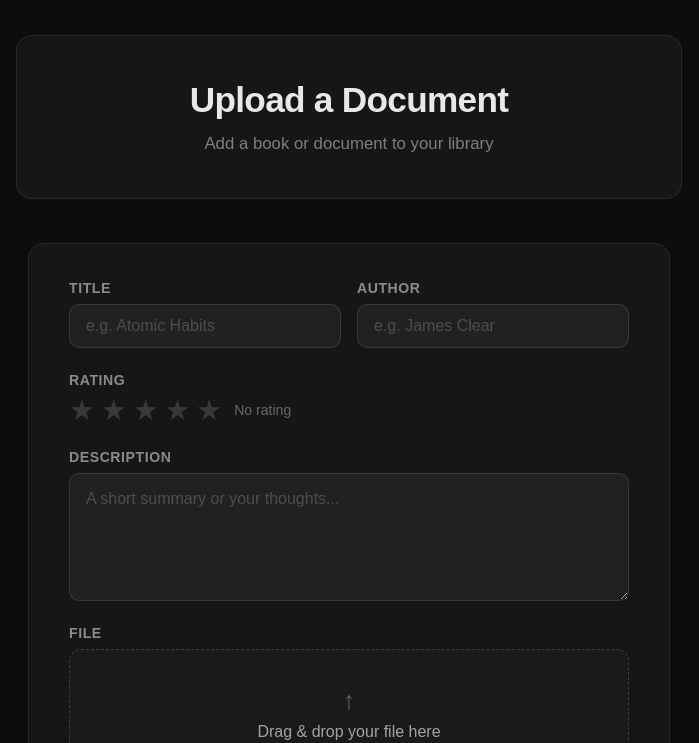
Scenario: Upload component › shows success banner after successful upload
Type "My Book" into the field with placeholder "e.g. Atomic Habits". click: (205, 326)
box: 69,304 -> 341,348
(page scrolled)
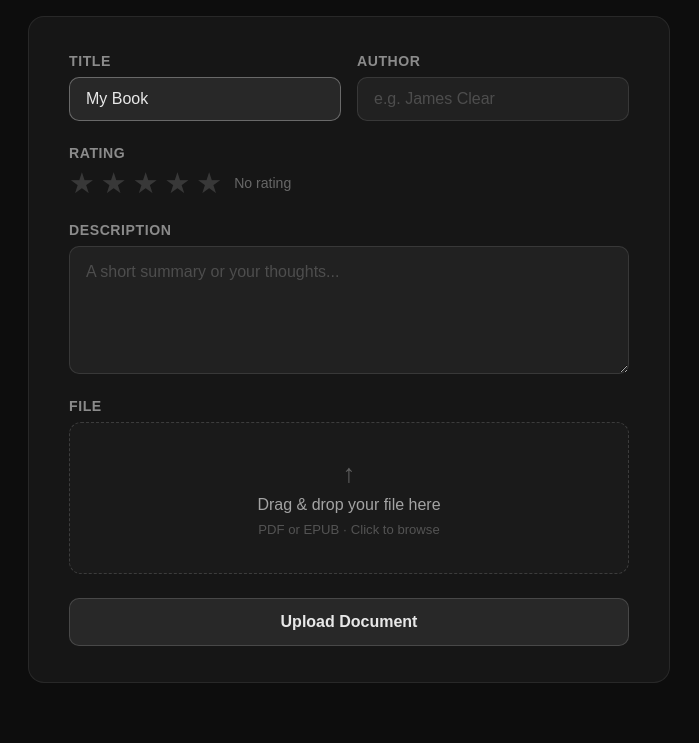
Click the button "Upload Document". click: (349, 622)
box: 69,598 -> 629,646
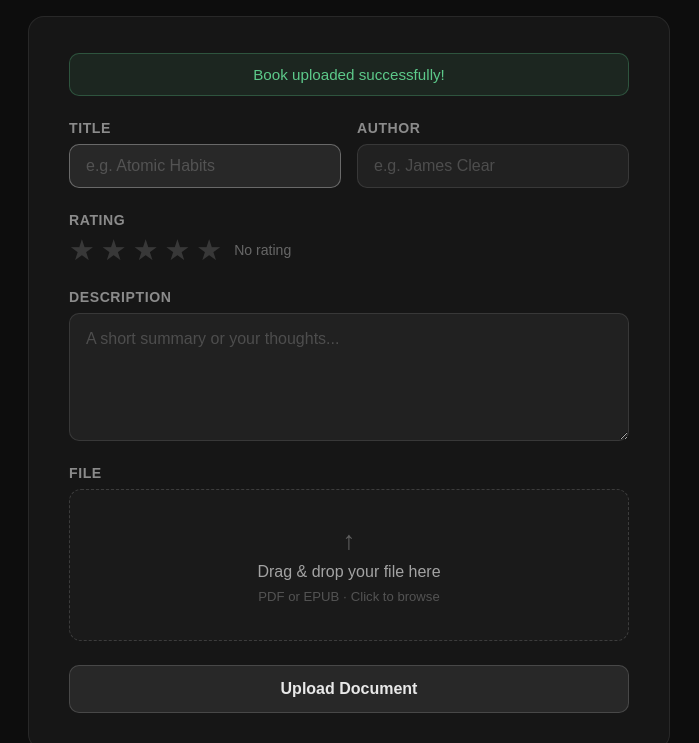
Expected: the text "Book uploaded successfully!" is shown, 69,53 -> 629,96
